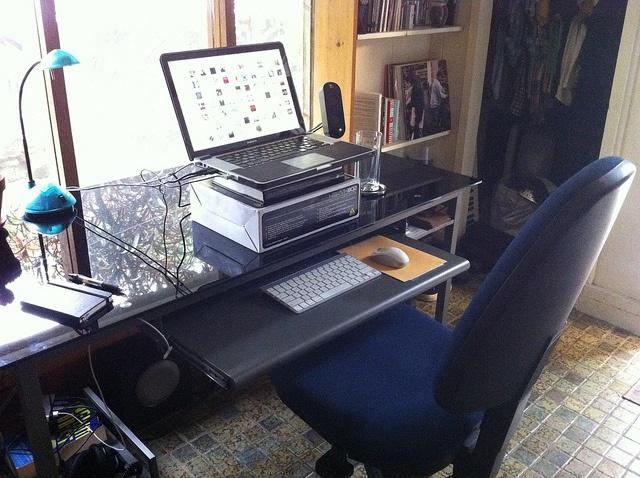Kursi: (267, 155, 635, 477)
